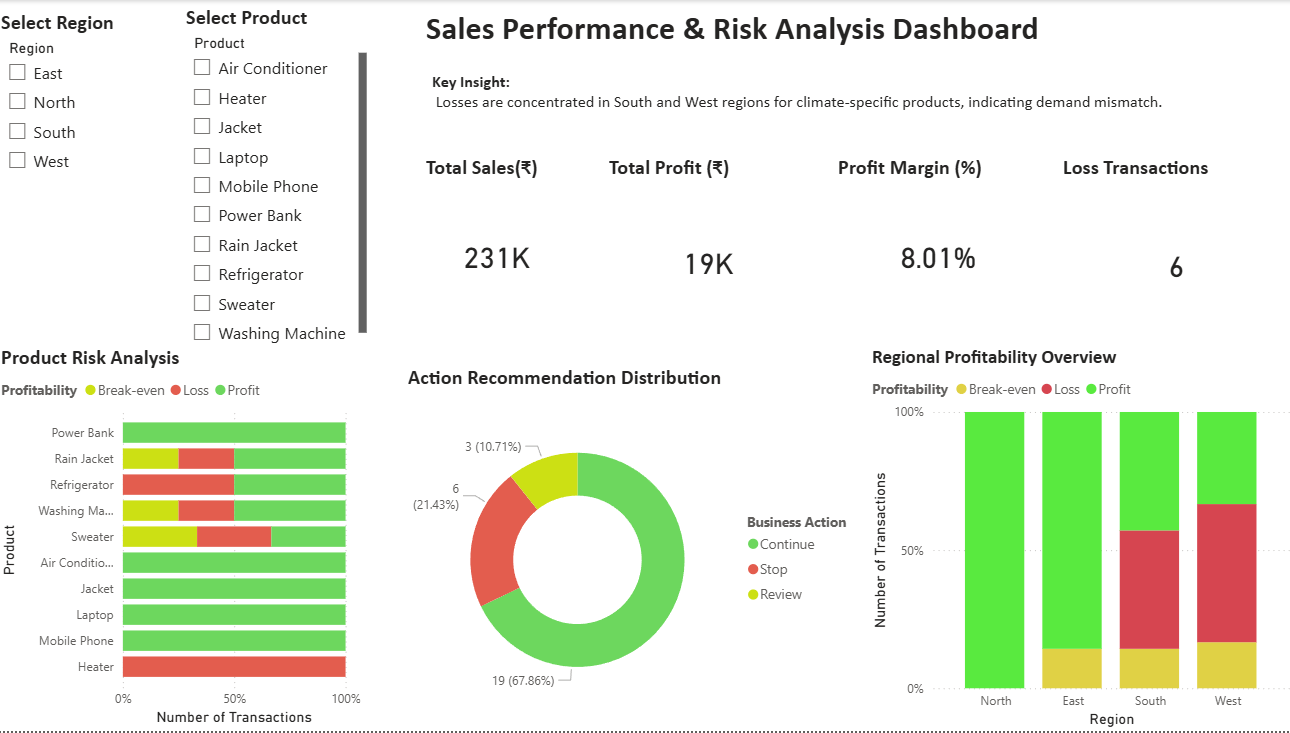

The dashboard page shown, as its layout file describes it:
{"tool":"powerbi","page":{"name":"Page 1","canvas":[1280,720],"ordinal":0},"visuals":[{"type":"hundredPercentStackedColumnChart","title":"Regional Profitability Overview","fields":{"Category":["Table 1 (Sheet1). Region "],"Y":["CountNonNull(Table 1 (Sheet1). Product )"],"Series":["Table 1 (Sheet1).Profitability"]},"box":[858.2,339.7,421.8,381.6],"z":0},{"type":"hundredPercentStackedBarChart","title":"Product Risk Analysis","fields":{"Y":["CountNonNull(Table 1 (Sheet1). Product )"],"Category":["Table 1 (Sheet1). Product "],"Series":["Table 1 (Sheet1).Profit_Status "]},"box":[0,340,364.4,380],"z":1000},{"type":"donutChart","title":"Action Recommendation Distribution","fields":{"Category":["Table 1 (Sheet1).Action_Recommendation"],"Y":["CountNonNull(Table 1 (Sheet1). Product )"]},"box":[401.1,360,457.8,360],"z":2000},{"type":"slicer","title":"Select Region","fields":{"Values":["Table 1 (Sheet1). Region "]},"box":[0,9.5,147.6,182.9],"z":3000},{"type":"slicer","title":"Select Product","fields":{"Values":["Table 1 (Sheet1). Product "]},"box":[181.9,4.8,188.4,339.7],"z":4000},{"type":"card","title":"Total Sales(₹)","fields":{"Values":["Sum(Table 1 (Sheet1). Sales )"]},"box":[418.6,153,149.7,173.9],"z":5000},{"type":"card","title":"Total Profit (₹)","fields":{"Values":["Sum(Table 1 (Sheet1).Profit)"]},"box":[598.9,153,206.1,186.8],"z":6000},{"type":"card","title":"Loss Transactions","fields":{"Values":["CountNonNull(Table 1 (Sheet1).Profitability)"]},"box":[1046.5,153,233.5,191.6],"z":7000},{"type":"card","title":"Profit Margin (%)","fields":{"Values":["Table 1 (Sheet1).Profit Margin(%)"]},"box":[824.4,153,207.7,173.9],"z":8000},{"type":"textbox","box":[418.8,3,840.5,56.2],"z":9000},{"type":"textbox","box":[424.7,66,829.7,53.2],"z":10000}]}

Visuals, with their boxes in screenshot pixels (x1, y1, x2, y2), scaled from the page's 1280x720 canvas onto the 1290x733 screenshot:
"Regional Profitability Overview" hundredPercentStackedColumnChart: BBox(865, 346, 1289, 732)
"Product Risk Analysis" hundredPercentStackedBarChart: BBox(0, 346, 367, 732)
"Action Recommendation Distribution" donutChart: BBox(404, 366, 866, 732)
"Select Region" slicer: BBox(0, 10, 149, 196)
"Select Product" slicer: BBox(183, 5, 373, 351)
"Total Sales(₹)" card: BBox(422, 156, 573, 333)
"Total Profit (₹)" card: BBox(604, 156, 811, 346)
"Loss Transactions" card: BBox(1055, 156, 1289, 351)
"Profit Margin (%)" card: BBox(831, 156, 1040, 333)
textbox: BBox(422, 3, 1269, 60)
textbox: BBox(428, 67, 1264, 121)
